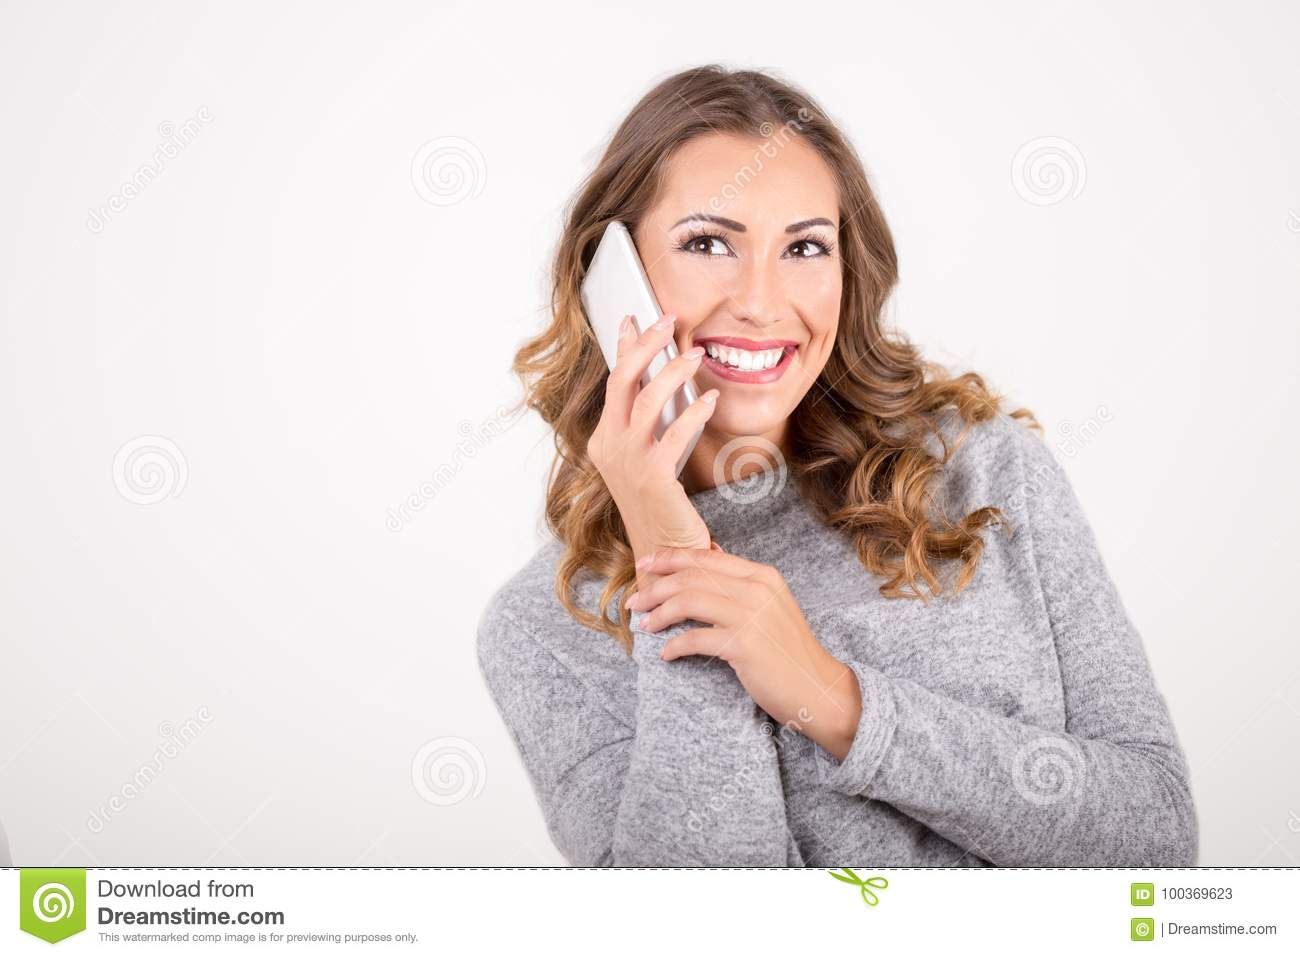phone: (584, 220, 712, 492)
talk: (580, 199, 843, 568)
